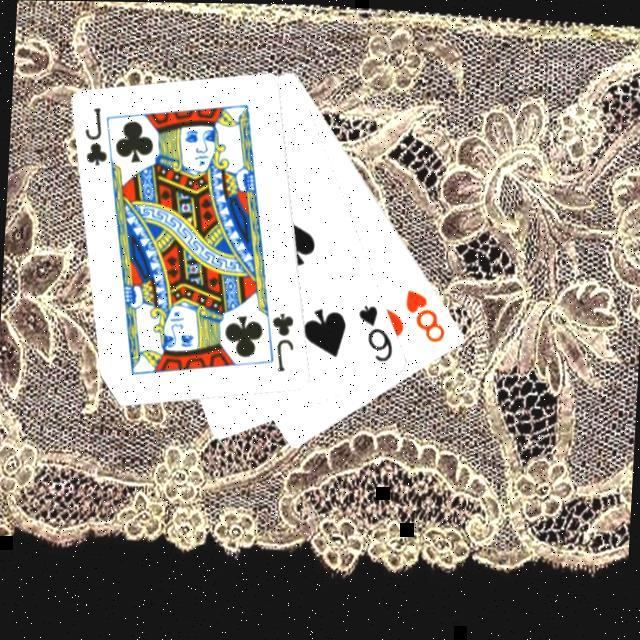6S: (351, 298, 396, 364)
8H: (398, 282, 449, 344)
JC: (78, 102, 112, 168), (265, 307, 298, 373)
